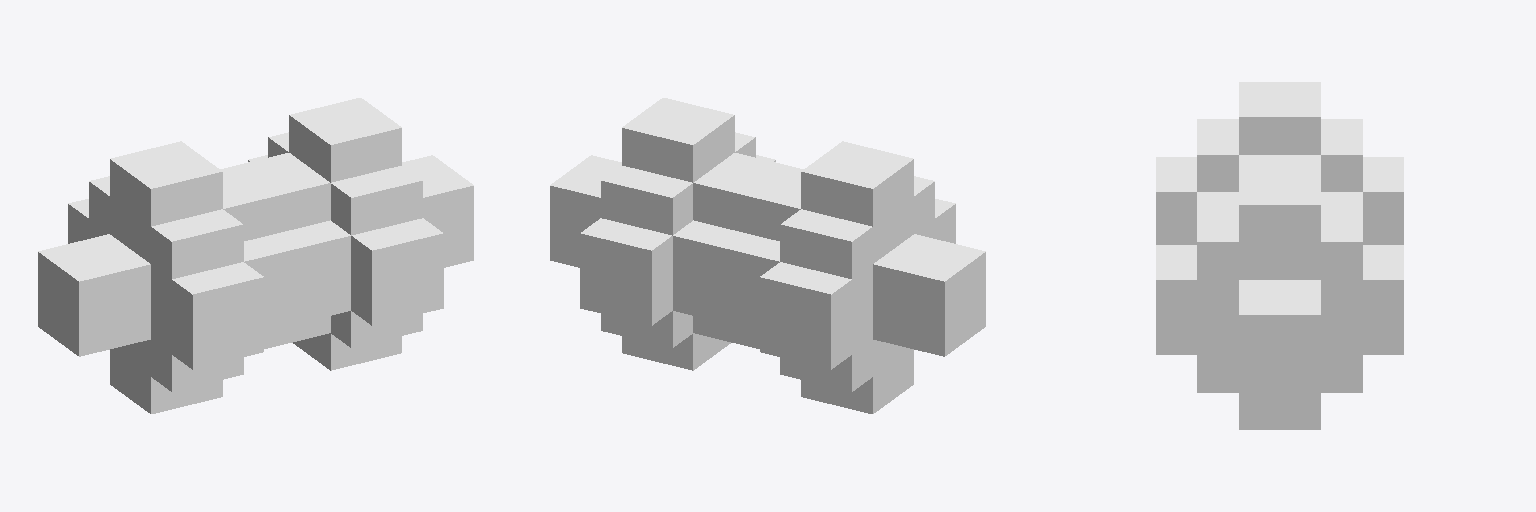
Rendered from super_meat.obj.
3 renders of one model, left to right at view 1: azimuth 30°, elevation 25°; view 2: azimuth 150°, elevation 25°; view 3: azimuth 270°, elevation 25°, orthographic.
Size of the model in its own units: 11 by 6 by 6.